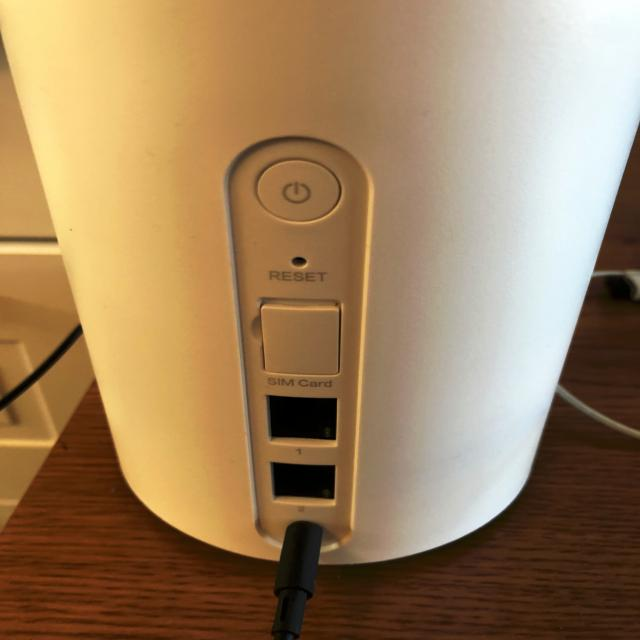lan: (262, 394, 348, 446), (262, 459, 343, 507)
modem: (0, 0, 640, 556)
onbutton: (254, 158, 350, 224)
powcab: (215, 516, 335, 640)
sim: (243, 294, 350, 380)
